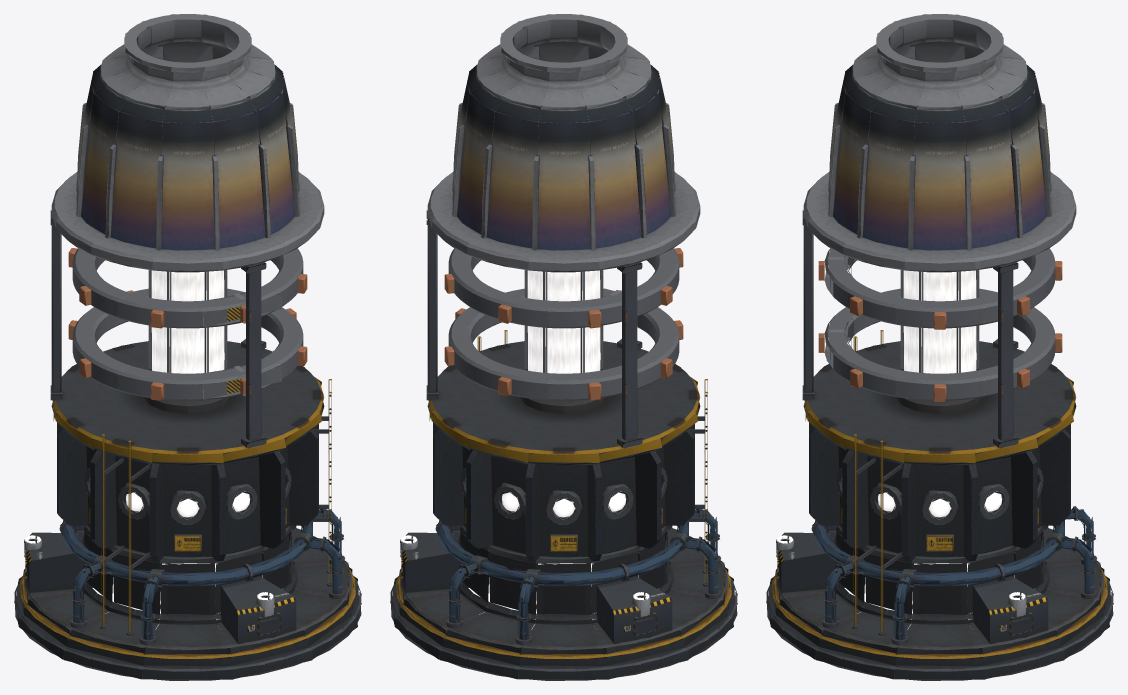
Rendered from reactor.glb.
3 renders of one model, left to right at view 1: azimuth 30°, elevation 25°; view 2: azimuth 150°, elevation 25°; view 3: azimuth 270°, elevation 25°, orthographic.
Parts seen in each view (by area): view 1: GEO_S2_UpperShellSector_012, GEO_S2_UpperShellSector_001, GEO_S2_UpperShellSector_011, GEO_S2_ShellSector_012, GEO_S2_ShellSector_011, GEO_S2_UpperShellSector_010, GEO_S2_UpperShellSector_002, GEO_S2_ShellSector_001, GEO_S2_PlinthSector_012, GEO_S2_CoolantLoop_003, GEO_S2_PlinthSector_011, GEO_S2_ControlConsole_001 (+46 smaller); view 2: GEO_S2_UpperShellSector_008, GEO_S2_UpperShellSector_009, GEO_S2_UpperShellSector_007, GEO_S2_ShellSector_008, GEO_S2_ShellSector_007, GEO_S2_UpperShellSector_006, GEO_S2_UpperShellSector_010, GEO_S2_ShellSector_009, GEO_S2_PlinthSector_008, GEO_S2_CoolantLoop_002, GEO_S2_PlinthSector_007, GEO_S2_ControlConsole_003 (+45 smaller); view 3: GEO_S2_UpperShellSector_004, GEO_S2_UpperShellSector_005, GEO_S2_UpperShellSector_003, GEO_S2_ShellSector_004, GEO_S2_ShellSector_003, GEO_S2_UpperShellSector_002, GEO_S2_UpperShellSector_006, GEO_S2_ShellSector_005, GEO_S2_PlinthSector_004, GEO_S2_CoolantLoop_001, GEO_S2_PlinthSector_003, GEO_S2_ControlConsole_002 (+45 smaller).
Part boxes in pixels (x1,y1,x2,y2): GEO_S2_UpperShellSector_012: (152,62,223,272); GEO_S2_UpperShellSector_001: (201,56,284,270); GEO_S2_UpperShellSector_011: (91,56,174,270); GEO_S2_ShellSector_012: (152,413,223,624); GEO_S2_ShellSector_011: (90,408,176,623); GEO_S2_UpperShellSector_010: (55,46,151,255); GEO_S2_UpperShellSector_002: (224,46,320,255); GEO_S2_ShellSector_001: (200,408,285,623); GEO_S2_PlinthSector_012: (142,623,233,680); GEO_S2_CoolantLoop_003: (62,524,253,657); GEO_S2_PlinthSector_011: (63,611,158,679); GEO_S2_ControlConsole_001: (220,576,296,643); GEO_S2_UpperShellSector_008: (528,62,599,272); GEO_S2_UpperShellSector_009: (577,56,660,270); GEO_S2_UpperShellSector_007: (467,56,550,270); GEO_S2_ShellSector_008: (528,413,599,624); GEO_S2_ShellSector_007: (466,408,552,623); GEO_S2_UpperShellSector_006: (431,46,527,255); GEO_S2_UpperShellSector_010: (600,46,696,255); GEO_S2_ShellSector_009: (576,408,661,623); GEO_S2_PlinthSector_008: (518,623,609,680); GEO_S2_CoolantLoop_002: (438,524,629,657); GEO_S2_PlinthSector_007: (439,611,534,679); GEO_S2_ControlConsole_003: (596,576,672,643); GEO_S2_UpperShellSector_004: (904,62,975,272); GEO_S2_UpperShellSector_005: (953,56,1036,270); GEO_S2_UpperShellSector_003: (843,56,926,270); GEO_S2_ShellSector_004: (904,413,975,624); GEO_S2_ShellSector_003: (842,408,928,623); GEO_S2_UpperShellSector_002: (807,46,903,255); GEO_S2_UpperShellSector_006: (976,46,1072,255); GEO_S2_ShellSector_005: (952,408,1037,623); GEO_S2_PlinthSector_004: (894,623,985,680); GEO_S2_CoolantLoop_001: (814,524,1005,657); GEO_S2_PlinthSector_003: (815,611,910,679); GEO_S2_ControlConsole_002: (972,576,1048,643).
Bounding box in the file's own units: 5.01 × 9 × 5.01.
Materials: 3 (3 with a texture image).
